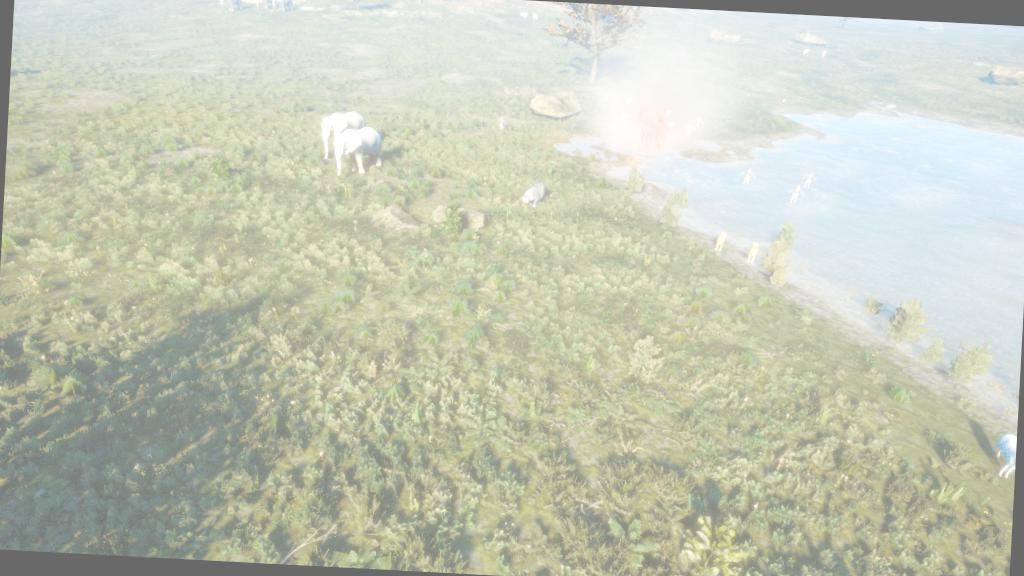Fire: (619, 98, 681, 164)
elephant: (308, 104, 371, 168), (328, 118, 390, 181)
hippopotamus: (513, 173, 558, 218)
human: (732, 160, 761, 200), (781, 179, 809, 215), (793, 161, 821, 195), (490, 112, 516, 143)
smoke: (602, 14, 779, 164)
